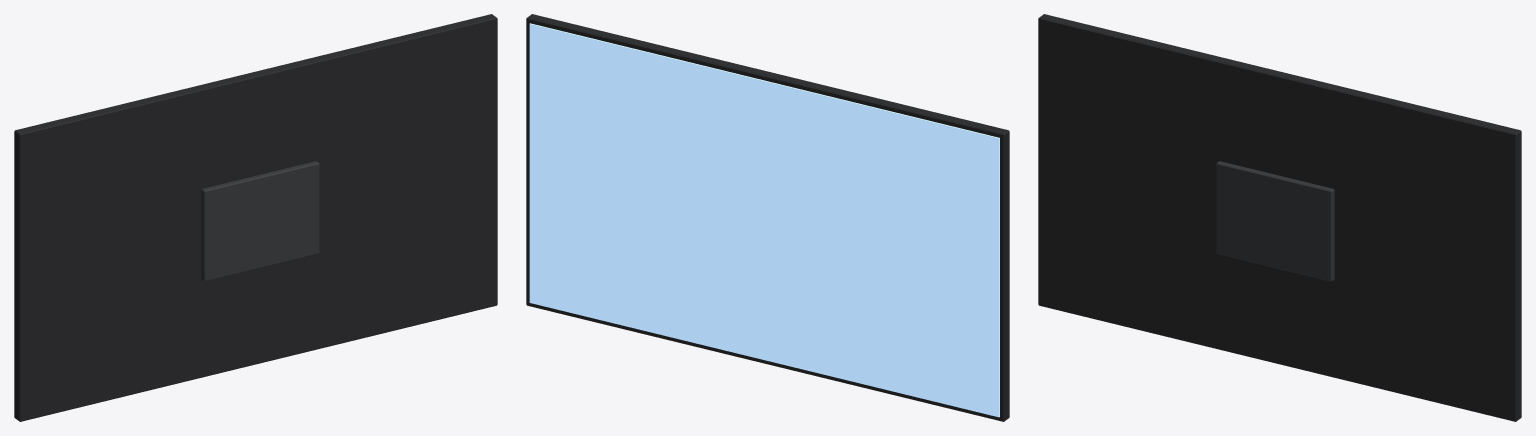
The model's file is prop_tv_wall.glb.
3 views of the same model, side by side, from view 1: azimuth 30°, elevation 25°; view 2: azimuth 150°, elevation 25°; view 3: azimuth 330°, elevation 25° (orthographic).
Parts seen in each view (by area): view 1: Display; view 2: Display; view 3: Display.
Boxes of the visible parts, <box> form: Display: <box>14,14,497,421</box>; Display: <box>526,14,1009,421</box>; Display: <box>1038,14,1521,421</box>.
Bounding box in the file's own units: 1.65 × 0.95 × 0.059.
